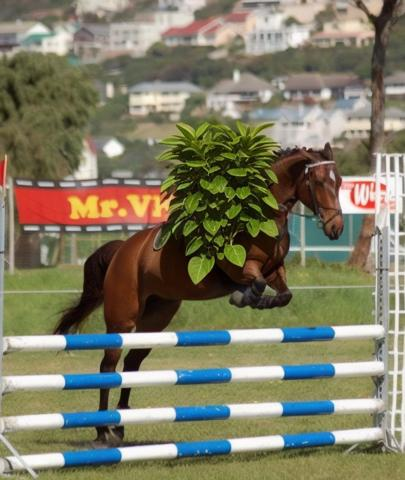horse: (60, 143, 348, 450)
pottedplant: (159, 117, 279, 284)
